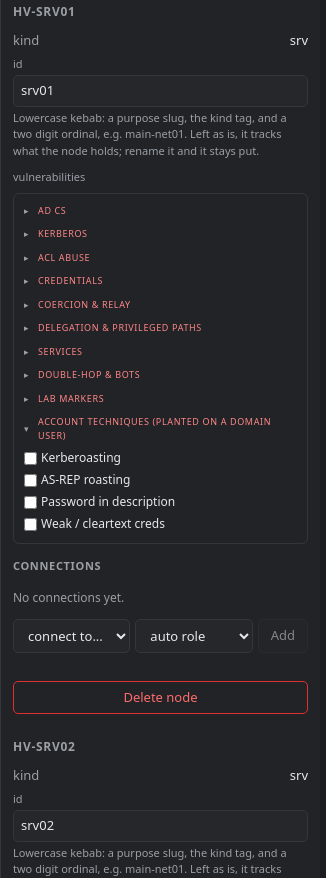
Test: account techniques on the host vuln picker › planting two different techniques adds two separate users, removable independently
Click the checkbox labelled "Kerberoasting".
click(30, 458)  # box [24, 452, 37, 464]
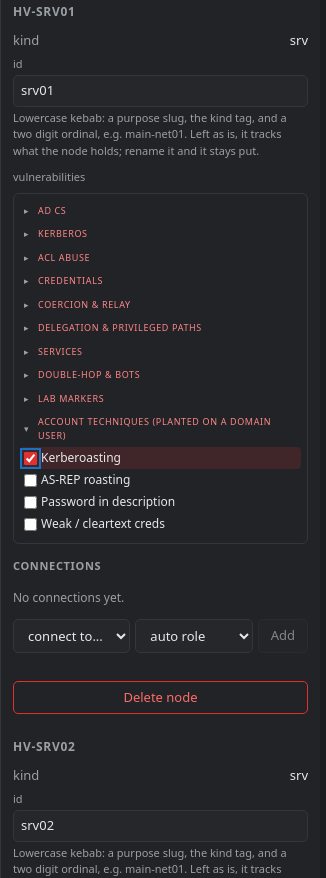
Click the checkbox labelled "AS-REP roasting".
click(30, 480)  # box [24, 474, 37, 486]
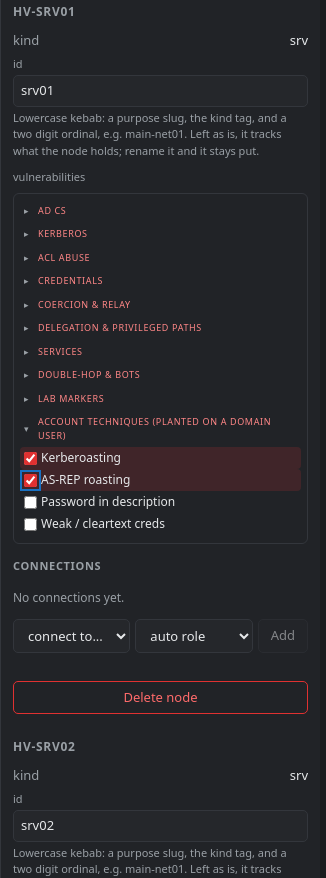
Click the checkbox labelled "Kerberoasting".
click(30, 458)  # box [24, 452, 37, 464]
(page scrolled)
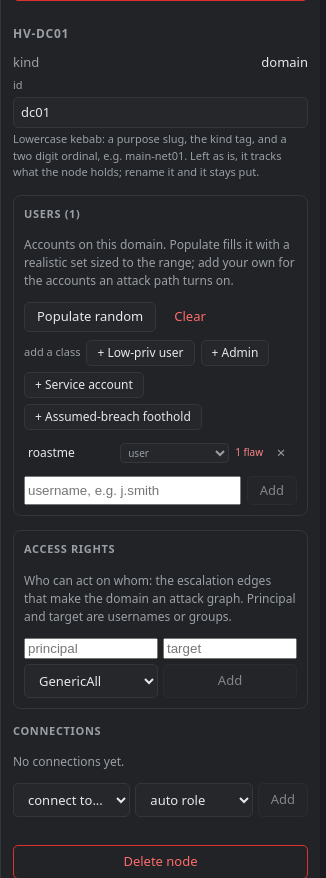
Result: the button "roastme" is shown at [28, 444, 114, 462]
